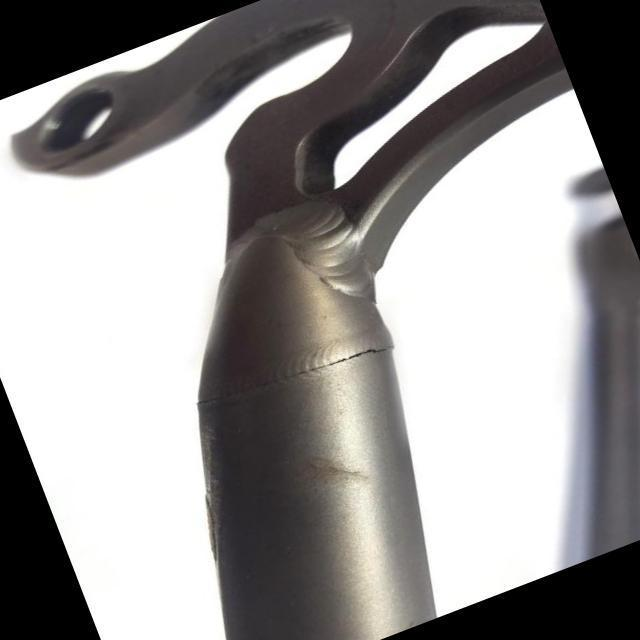defect: (193, 344, 398, 406)
